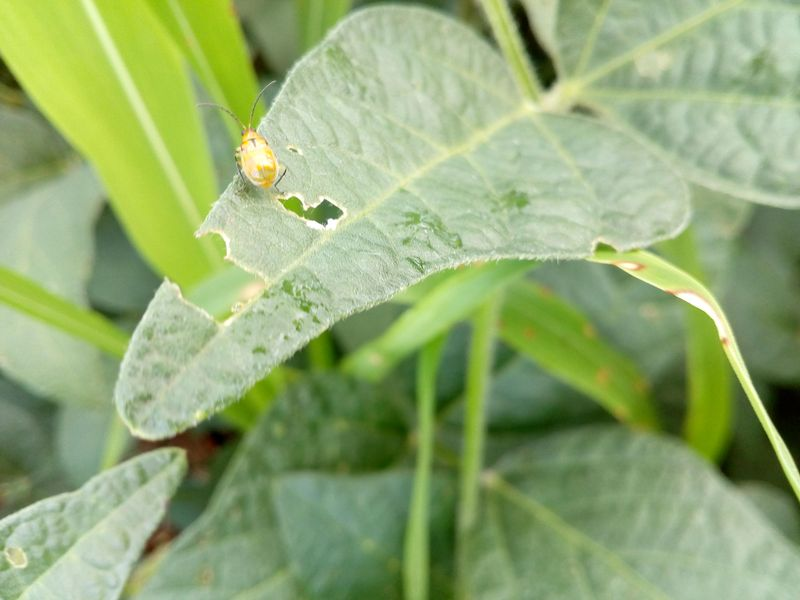Diabrotica_speciosa: (192, 74, 303, 205)
